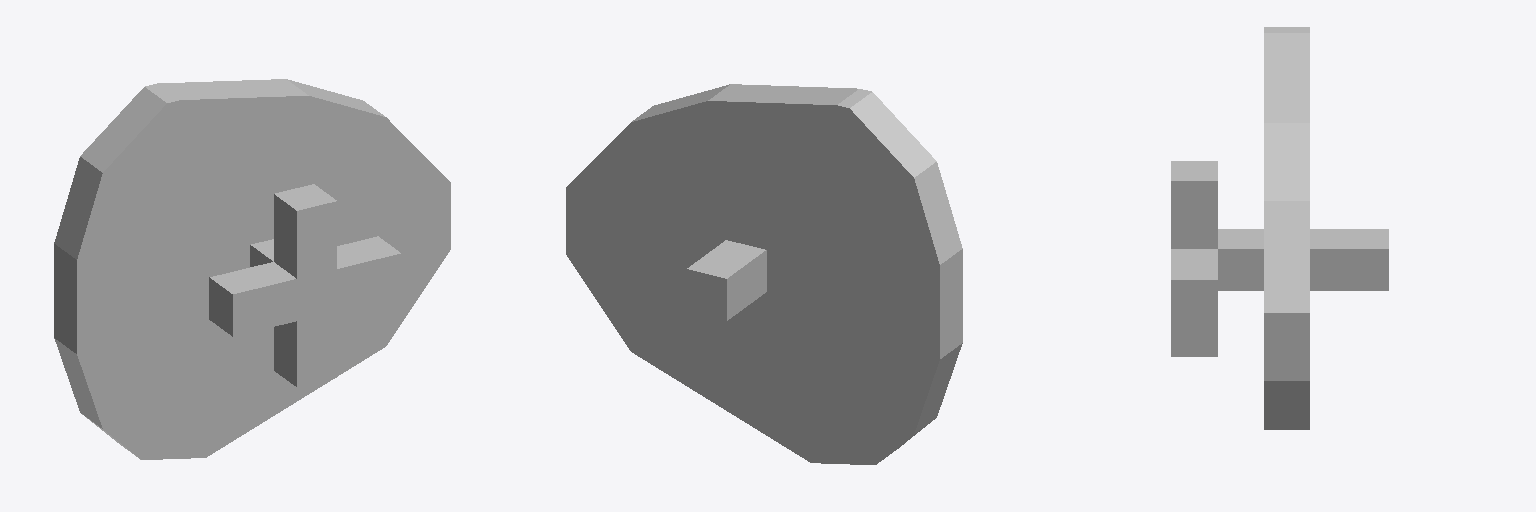
File: Head.obj
The picture shows the model from 3 angles: view 1: azimuth 30°, elevation 25°; view 2: azimuth 150°, elevation 25°; view 3: azimuth 270°, elevation 25°; orthographic projection.
Visible parts, largest first — view 1: Object.1, Object.3, Object.4, Object.2; view 2: Object.1, Object.2; view 3: Object.1, Object.2, Object.4, Object.3.
Boxes of the visible parts, <box> form: Object.1: <box>54,79,450,459</box>; Object.3: <box>209,236,401,336</box>; Object.4: <box>274,184,336,386</box>; Object.2: <box>250,239,273,266</box>; Object.1: <box>566,84,962,464</box>; Object.2: <box>687,240,766,320</box>; Object.1: <box>1264,27,1309,429</box>; Object.2: <box>1218,229,1388,290</box>; Object.4: <box>1171,161,1217,356</box>; Object.3: <box>1171,249,1217,321</box>.
Bounding box in the file's own units: 73.36 × 68.3 × 37.11.